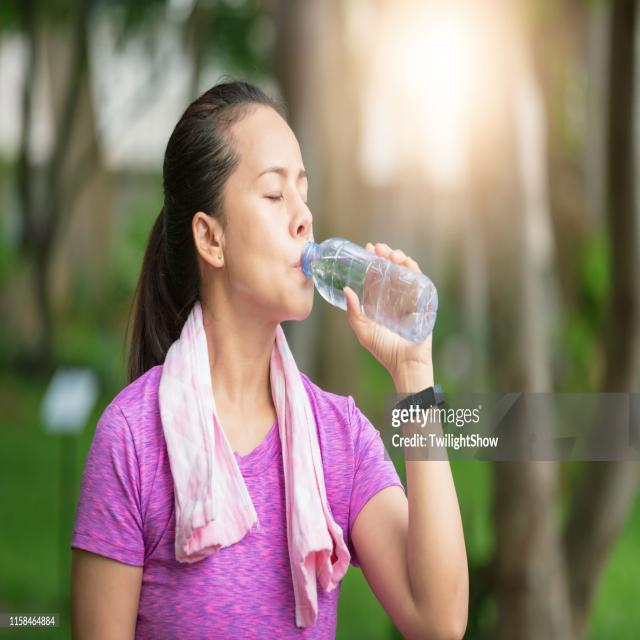bottle: (300, 235, 443, 347)
